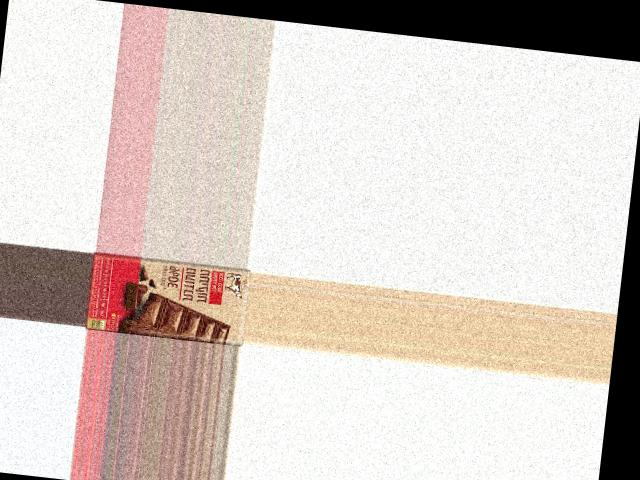chocolate: (86, 251, 252, 346)
